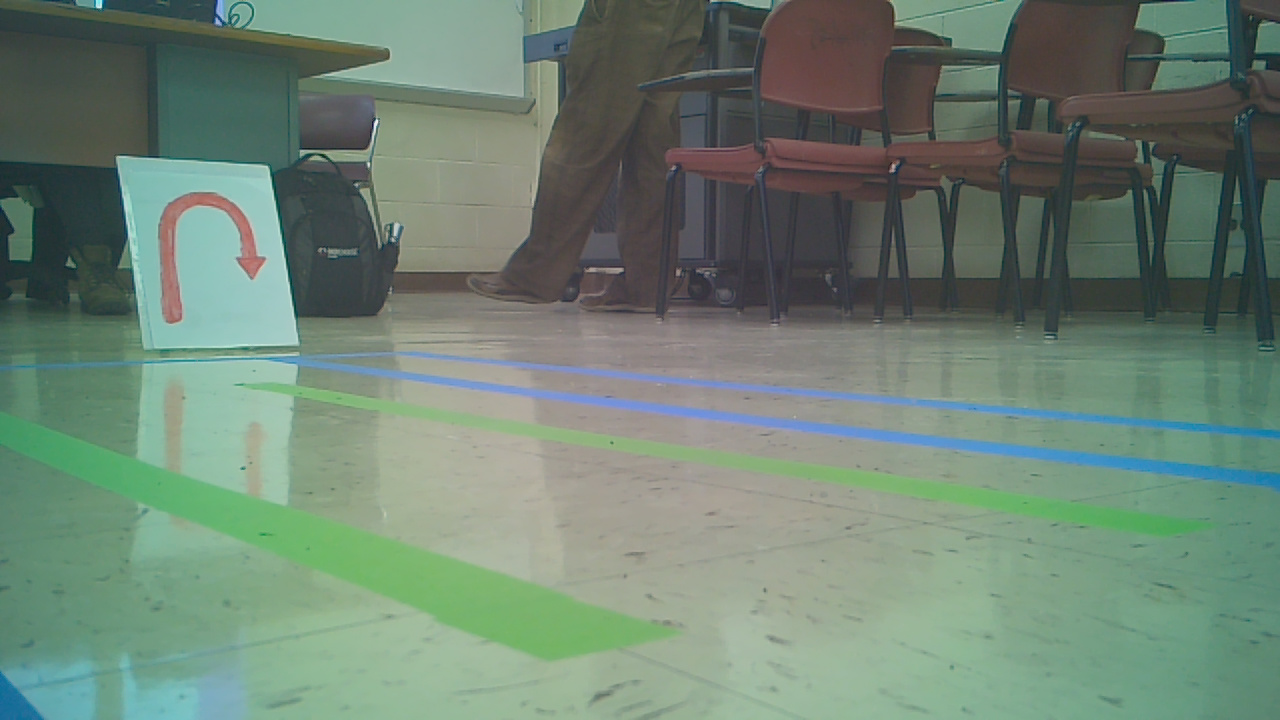greenline: (239, 384, 1215, 537), (2, 417, 677, 629)
uturn: (154, 189, 266, 328)
